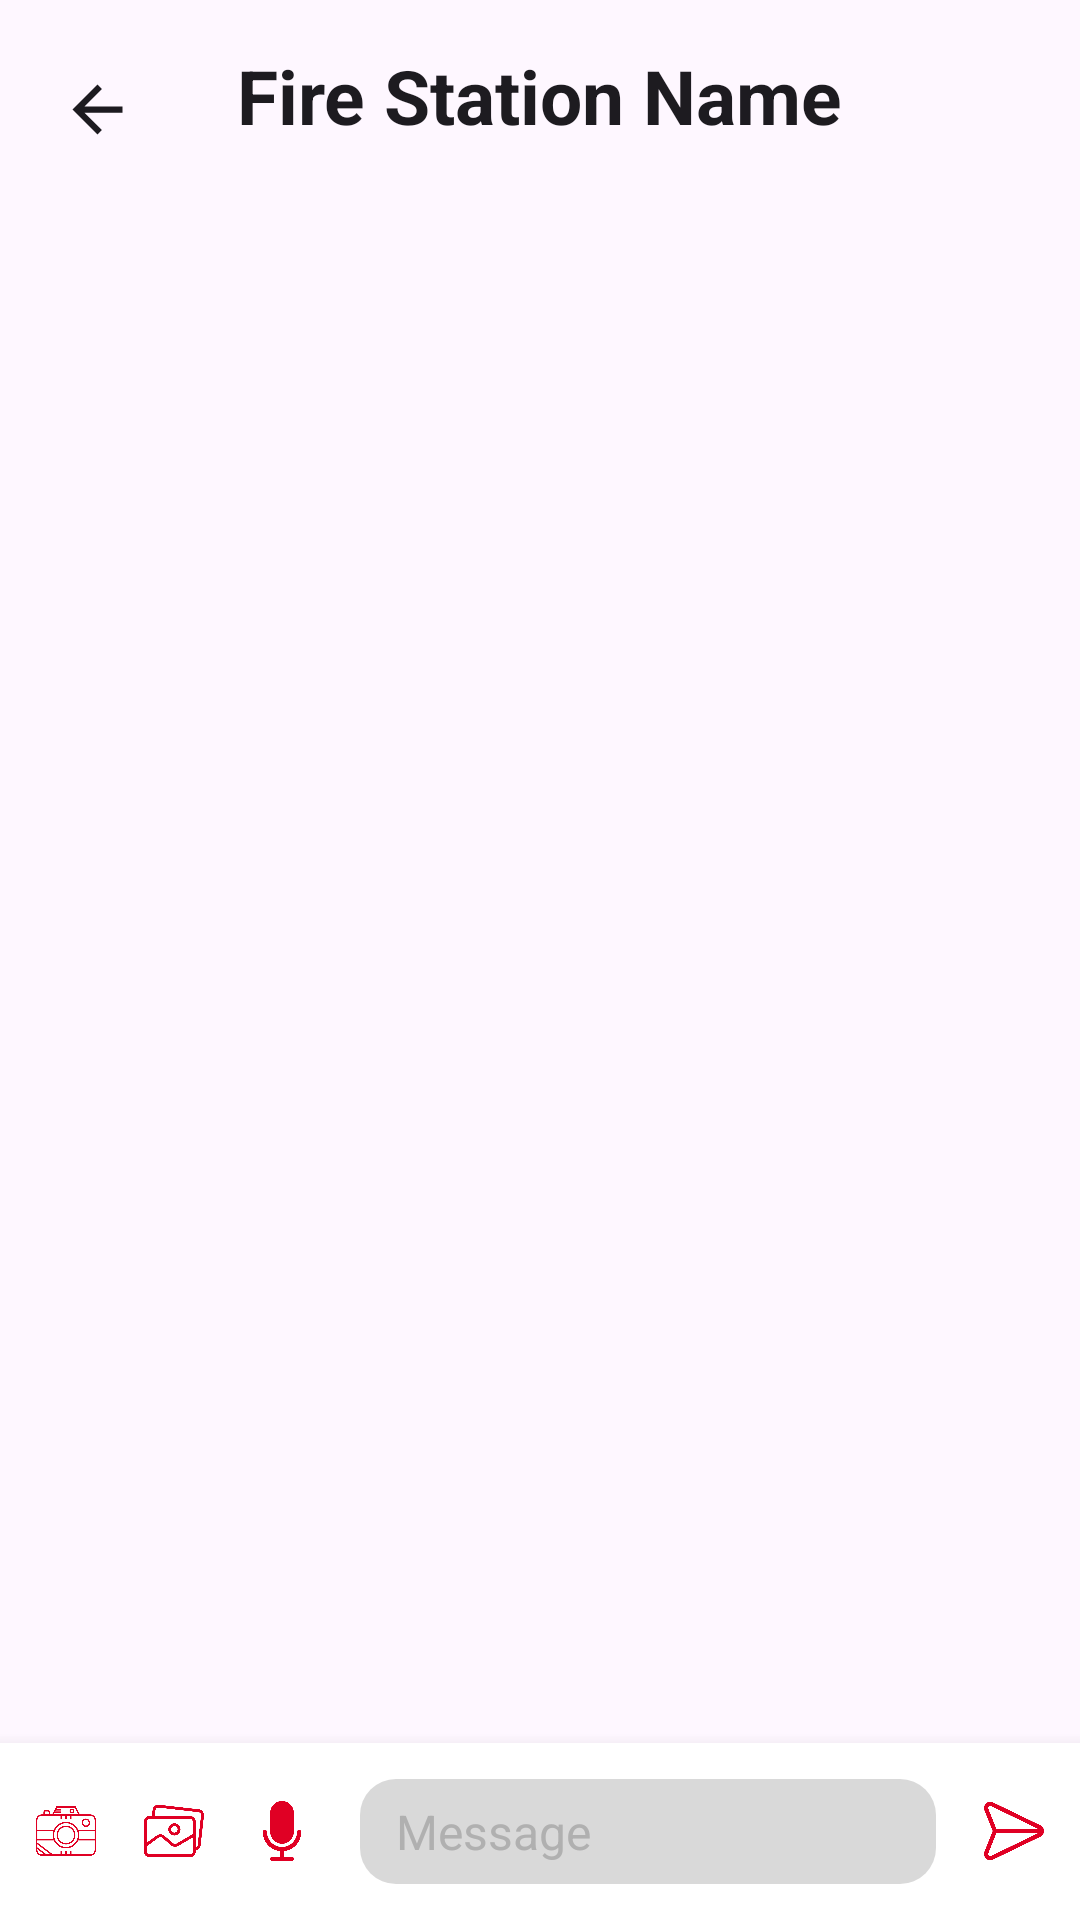

Named icons in this screenshot (1080px×1920px) and their bounding boxes, (x1, y1, x2, y2):
backed: (72, 84, 123, 135)
camera: (36, 1806, 96, 1856)
gallery: (144, 1805, 204, 1857)
record: (263, 1801, 301, 1861)
send: (984, 1802, 1044, 1860)
